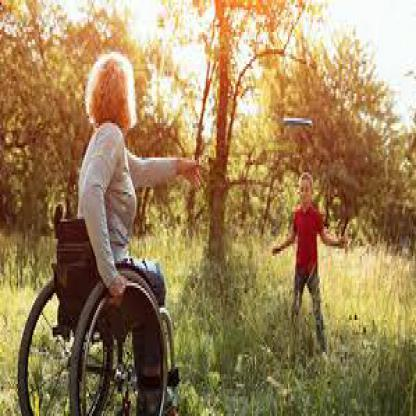wheelchair: (17, 51, 203, 414)
